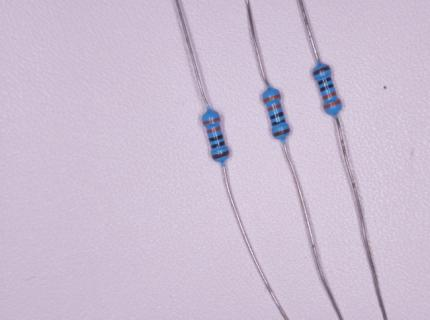Black band: (209, 134, 223, 142), (211, 141, 224, 149), (318, 77, 331, 85), (320, 84, 333, 92), (271, 112, 283, 120), (272, 119, 285, 126)
Brown band: (313, 66, 330, 76), (213, 150, 229, 159), (273, 128, 290, 136)
Orange band: (263, 94, 281, 103), (323, 100, 341, 109), (203, 117, 220, 125), (322, 91, 336, 100), (207, 126, 221, 134), (268, 104, 282, 112)
